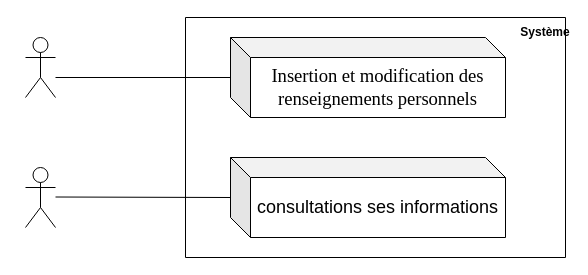
The diagram is 588 pixels wide and 275 high, and some of its shapes have lost their labels. Here are the shapes that lost their labels. From the top down, the centre of each, then its label:
At pixel 40 67: "Admin".
At pixel 40 197: "Employe".
